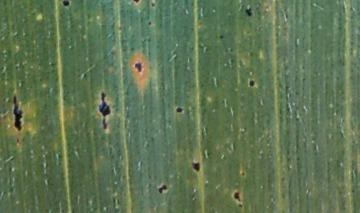tarspot: (12, 94, 24, 131), (99, 92, 111, 129), (157, 183, 167, 195), (191, 161, 201, 173), (134, 62, 143, 73), (232, 191, 241, 202), (174, 106, 184, 114), (248, 78, 256, 87), (245, 8, 252, 18), (63, 1, 71, 7), (237, 203, 244, 209), (149, 2, 155, 8), (219, 33, 224, 40), (147, 19, 152, 26), (241, 171, 245, 178), (133, 1, 142, 4)
